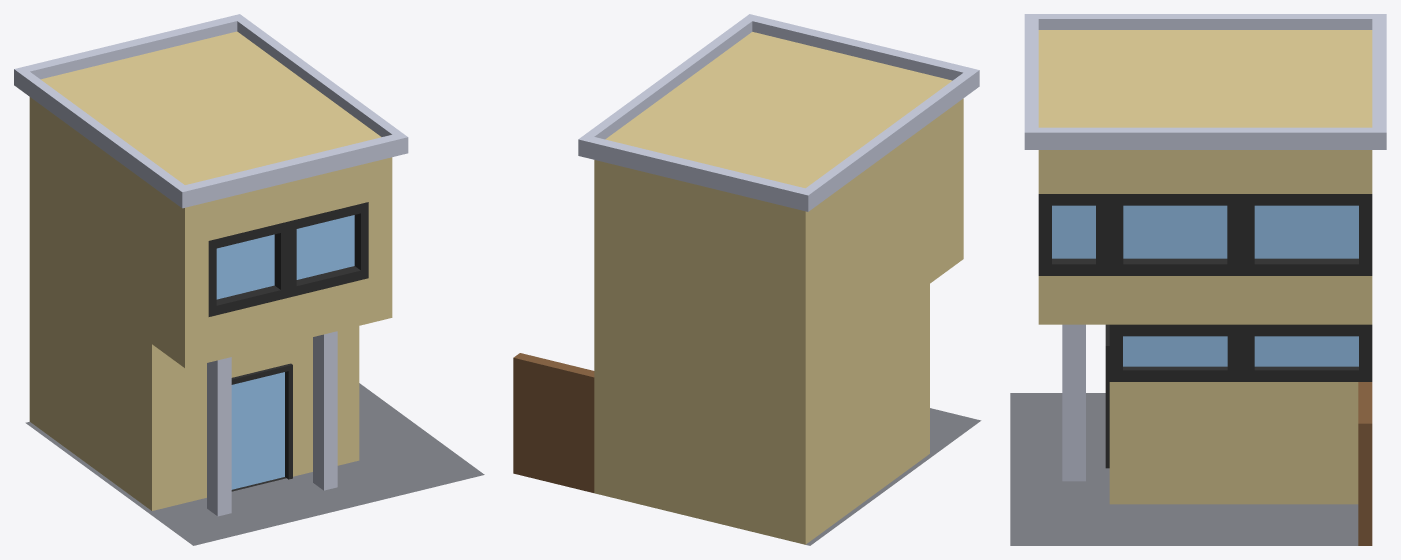
Rendered from Building4.fbx.
3 views of the same model, side by side, from view 1: azimuth 30°, elevation 25°; view 2: azimuth 150°, elevation 25°; view 3: azimuth 270°, elevation 25° (orthographic). The views are drawn at different scales.
Visible parts, largest first — view 1: Building4; view 2: Building4; view 3: Building4.
Boxes of the visible parts, left/top/right/bottom form: Building4: left=14, top=14, right=484, bottom=545; Building4: left=513, top=14, right=981, bottom=545; Building4: left=1010, top=14, right=1386, bottom=545.
Size of the model in its own units: 813 by 918 by 831.
